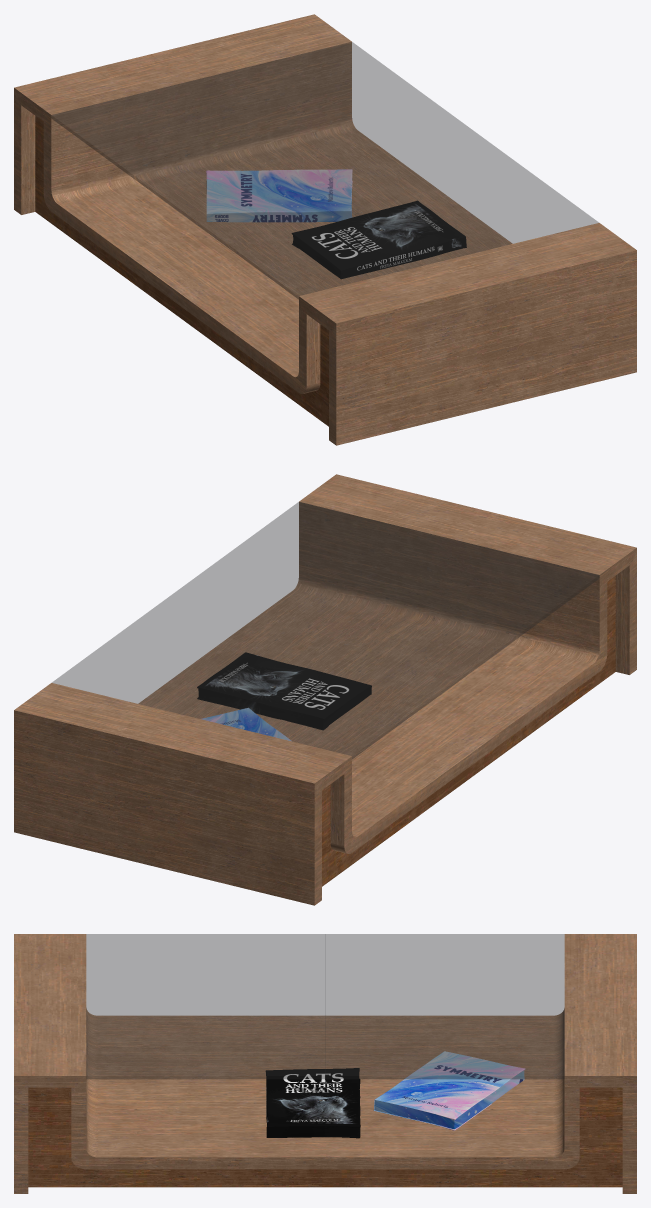
File: Table.glb
3 renders of one model, top to bottom at view 1: azimuth 30°, elevation 25°; view 2: azimuth 150°, elevation 25°; view 3: azimuth 270°, elevation 25°, orthographic. The views are drawn at different scales.
Parts seen in each view (by area): view 1: Table, Table Glass, book_softcover_01_cover52, book_softcover_01_cover52.001; view 2: Table, Table Glass, book_softcover_01_cover52, book_softcover_01_cover52.001; view 3: Table, Table Glass, book_softcover_01_cover52.001, book_softcover_01_cover52.
Boxes of the visible parts, x1=… form: Table: x1=14, y1=14, x2=636, y2=445; Table Glass: x1=51, y1=42, x2=598, y2=298; book_softcover_01_cover52: x1=291, y1=200, x2=466, y2=279; book_softcover_01_cover52.001: x1=206, y1=169, x2=352, y2=222; Table: x1=14, y1=474, x2=636, y2=905; Table Glass: x1=52, y1=502, x2=599, y2=758; book_softcover_01_cover52: x1=197, y1=652, x2=371, y2=730; book_softcover_01_cover52.001: x1=201, y1=708, x2=291, y2=741; Table: x1=14, y1=934, x2=636, y2=1193; Table Glass: x1=86, y1=934, x2=564, y2=1079; book_softcover_01_cover52.001: x1=373, y1=1051, x2=525, y2=1130; book_softcover_01_cover52: x1=265, y1=1068, x2=360, y2=1138.
Size of the model in its own units: 0.8732 by 0.3389 by 1.62.
Materials: 5 (4 with a texture image).
